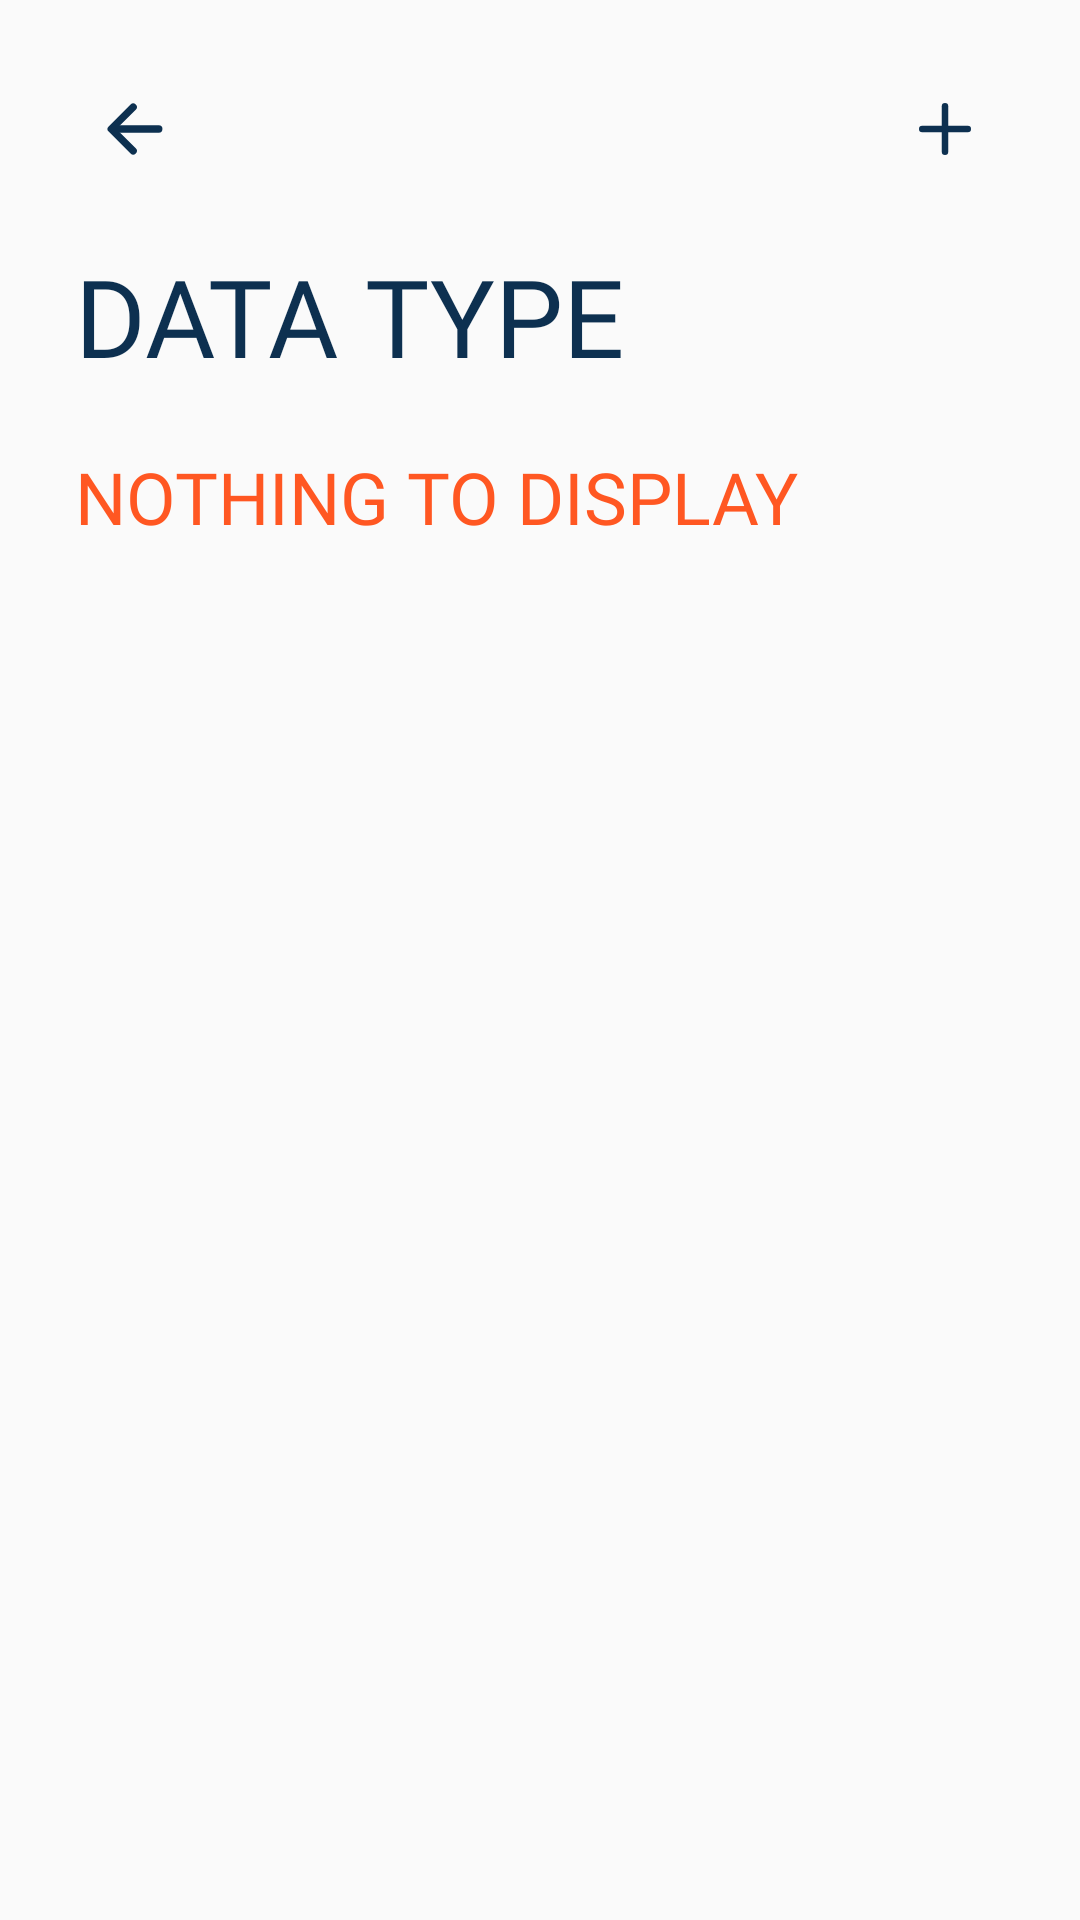

Icon click points for this 1080 x 1920 phone screenshot, format [x,y]:
arrow back: [135,129]
plus: [945,129]
